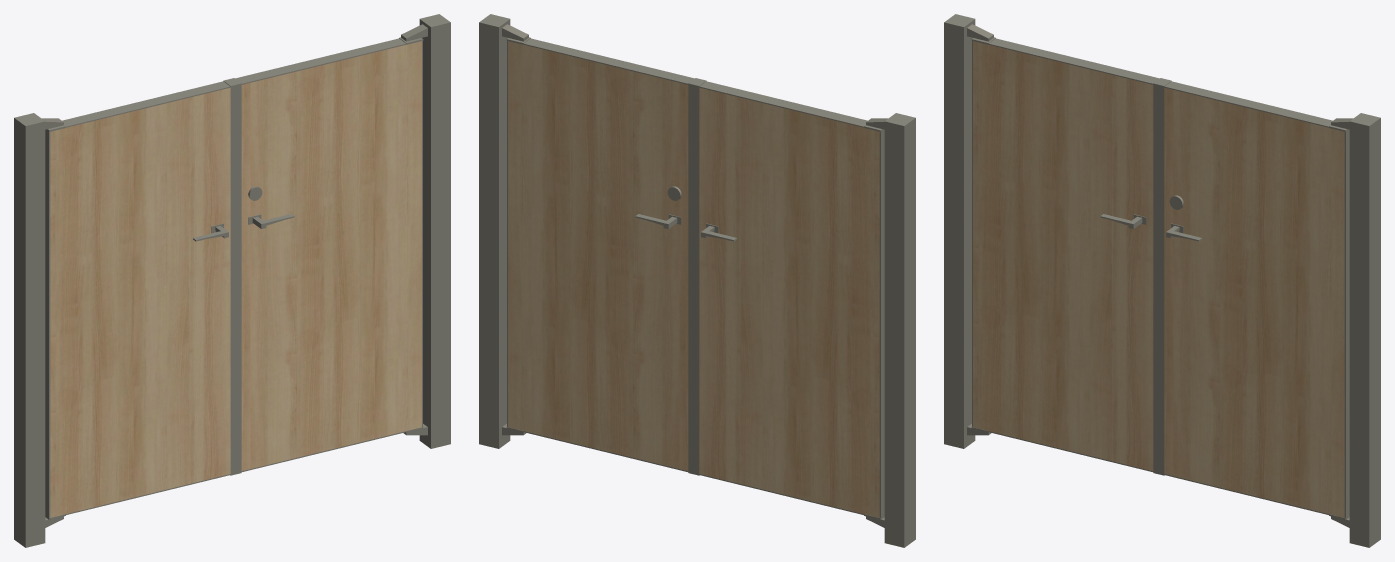
Rendered from abmonpi-flat_h1400-w700-700_actyoak.fbx.
3 renders of one model, left to right at view 1: azimuth 30°, elevation 25°; view 2: azimuth 150°, elevation 25°; view 3: azimuth 330°, elevation 25°, orthographic.
Parts seen in each view (by area): view 1: abmonpi-flat_h1400-w700-700_brackebony; view 2: abmonpi-flat_h1400-w700-700_brackebony; view 3: abmonpi-flat_h1400-w700-700_brackebony.
Boxes of the visible parts, <box> form: abmonpi-flat_h1400-w700-700_brackebony: <box>14,14,450,547</box>; abmonpi-flat_h1400-w700-700_brackebony: <box>479,14,915,547</box>; abmonpi-flat_h1400-w700-700_brackebony: <box>944,14,1380,547</box>.
Size of the model in its own units: 160 by 152 by 16.7.
Materials: 2 (2 with a texture image).
